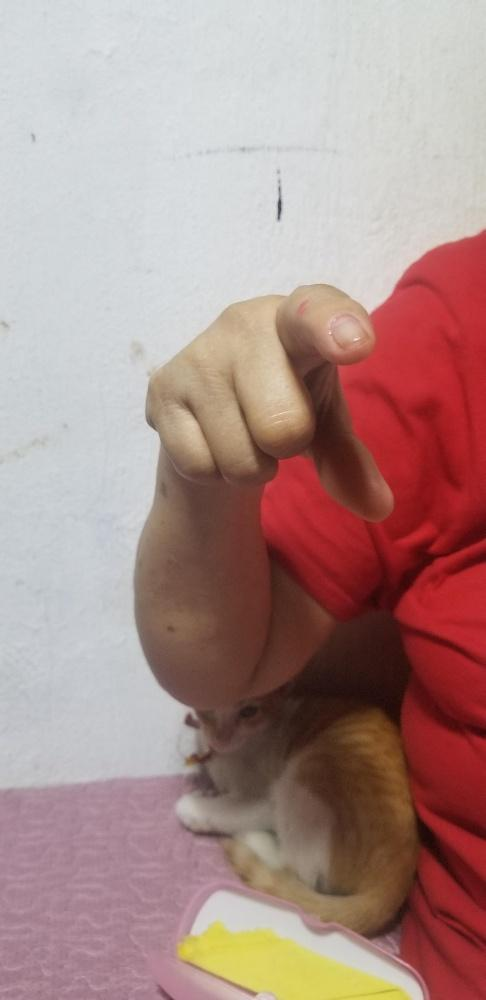z: (143, 280, 394, 525)
